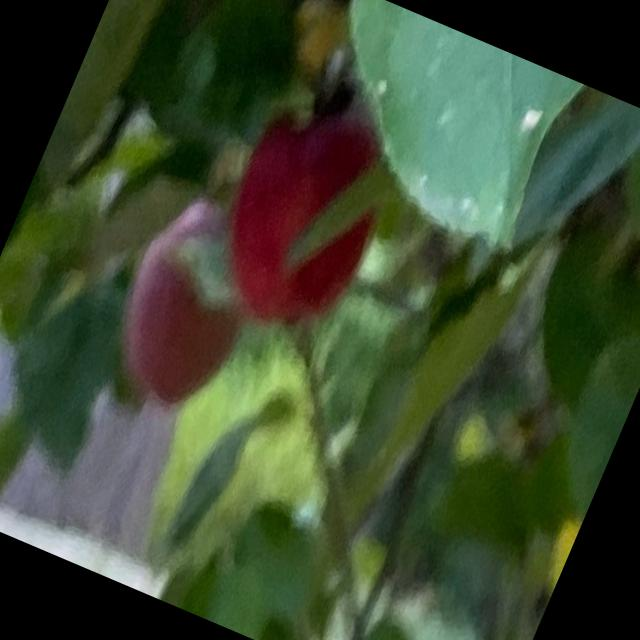Apples: (194, 86, 410, 344), (93, 184, 282, 418)
